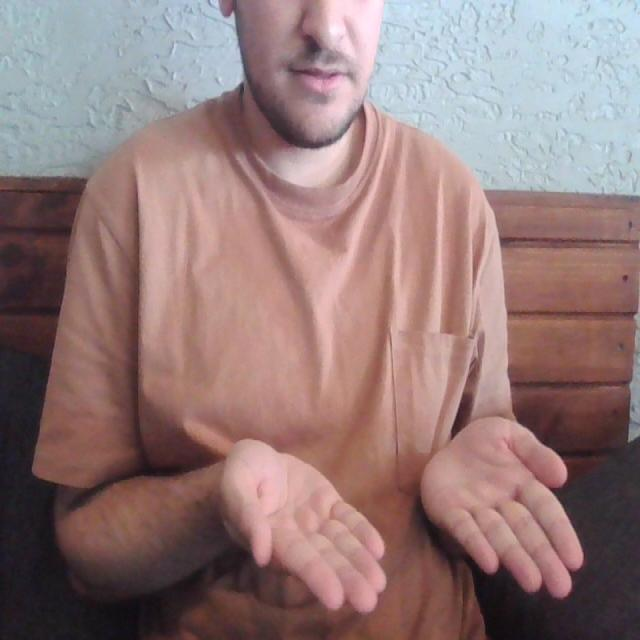Evet: (214, 410, 586, 620)
